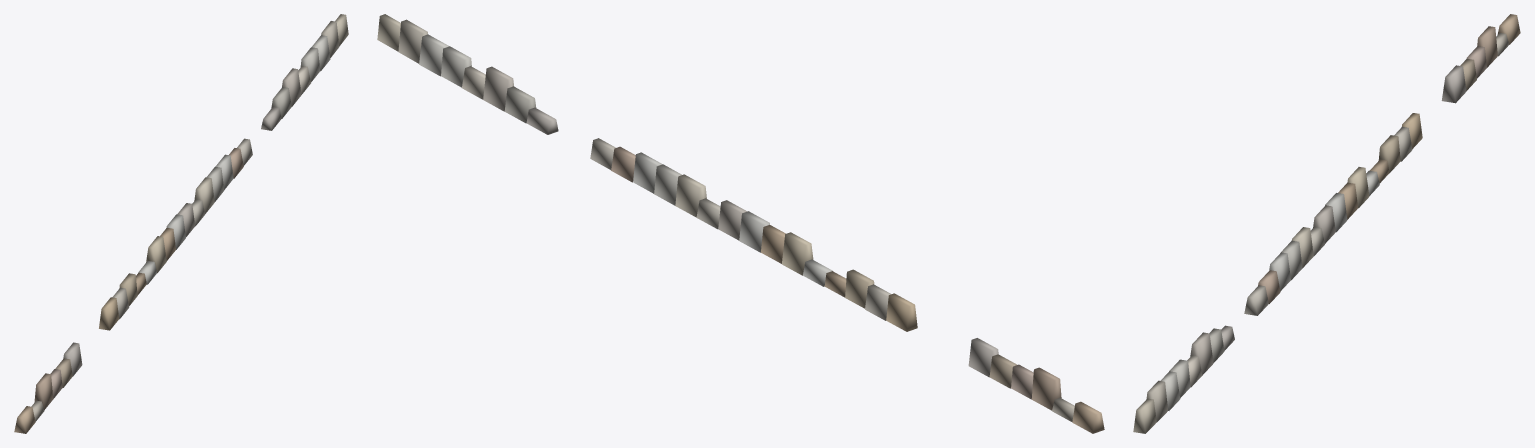
Rendered from farm_-30_-23_collision.glb.
The picture shows the model from 3 angles, left to right: view 1: azimuth 90°, elevation 25°; view 2: azimuth 150°, elevation 25°; view 3: azimuth 270°, elevation 25°; orthographic projection. The views are drawn at different scales.
Visible parts, largest first — view 1: geometry_0; view 2: geometry_0; view 3: geometry_0.
Boxes of the visible parts, box(x1,y1,x2,y2) form: geometry_0: box(14, 14, 348, 433); geometry_0: box(377, 14, 1104, 433); geometry_0: box(1133, 14, 1520, 433).
Bounding box in the file's own units: 48.89 × 3.06 × 18.46.
